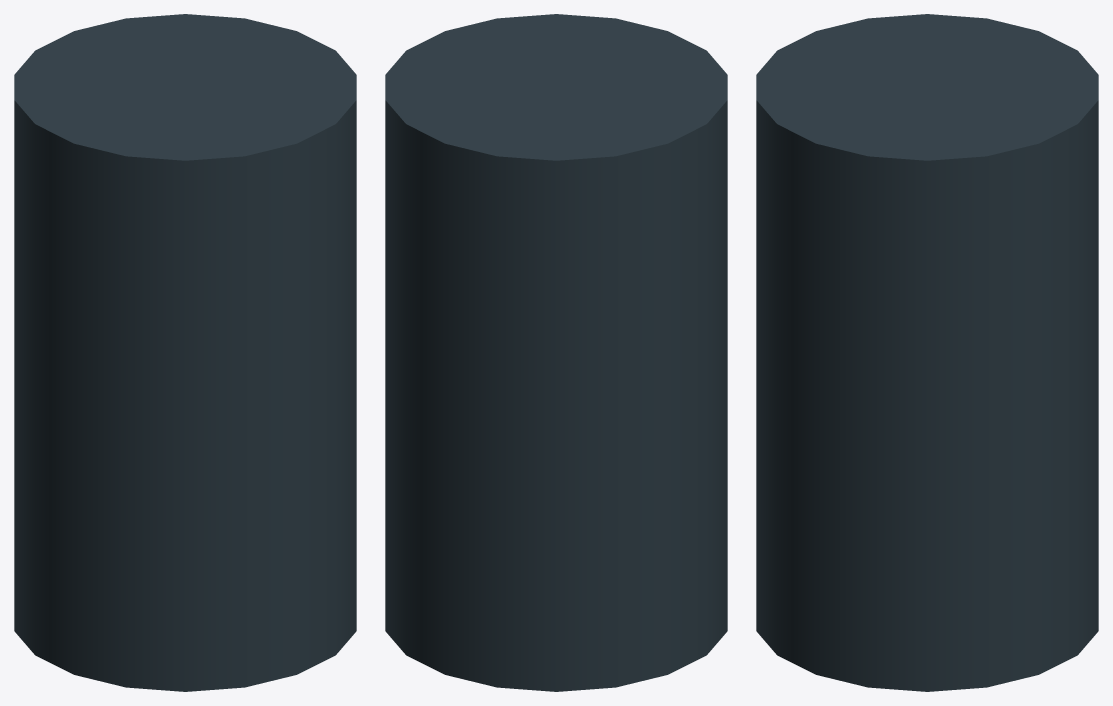
Rendered from columnaC.DAE.
3 views of the same model, side by side, from view 1: azimuth 30°, elevation 25°; view 2: azimuth 150°, elevation 25°; view 3: azimuth 270°, elevation 25° (orthographic).
Visible parts, largest first — view 1: columnaC; view 2: columnaC; view 3: columnaC.
Part boxes in pixels (left/top/right/bottom): columnaC: left=14, top=14, right=356, bottom=691; columnaC: left=385, top=14, right=727, bottom=691; columnaC: left=756, top=14, right=1098, bottom=691.
Size of the model in its own units: 1.6 by 1.58 by 2.7.
